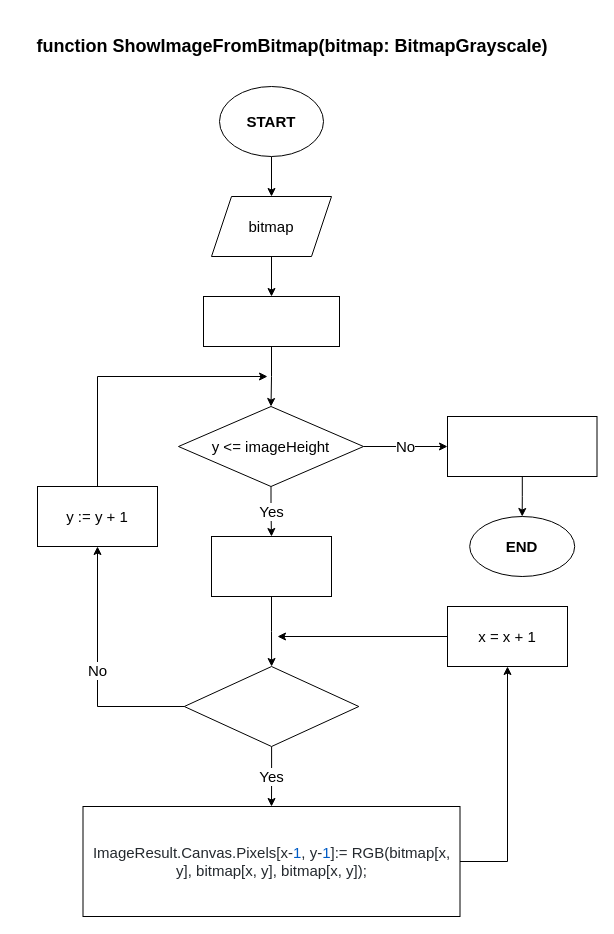
Image size: 614x934. Some labels were removed from this diagram. Here are the shapes that lost their labels. From the top down, the centre of each, then its label:
the point at 271,321: y := 1
the point at 521,446: return bitmap
the point at 271,566: x := 1
the point at 271,706: x <= imageWidth
